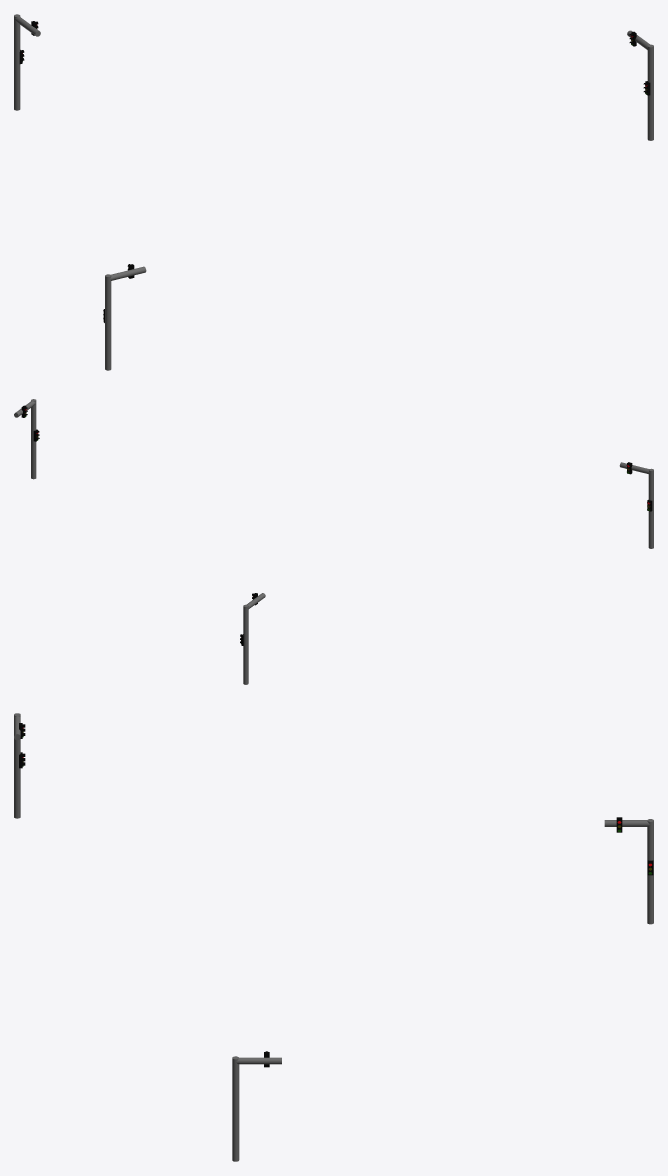
The picture shows the model from 3 angles, top to bottom: view 1: azimuth 30°, elevation 25°; view 2: azimuth 150°, elevation 25°; view 3: azimuth 270°, elevation 25°; orthographic projection. The views are drawn at different scales.
Parts seen in each view (by area): view 1: Cylinder.002; view 2: Cylinder.002; view 3: Cylinder.002.
Part boxes in pixels (<box>): Cylinder.002: <box>14,14,653,370</box>; Cylinder.002: <box>14,399,653,684</box>; Cylinder.002: <box>14,713,653,1161</box>.
Bounding box in the file's own units: 43.46 × 33.97 × 6.21.
